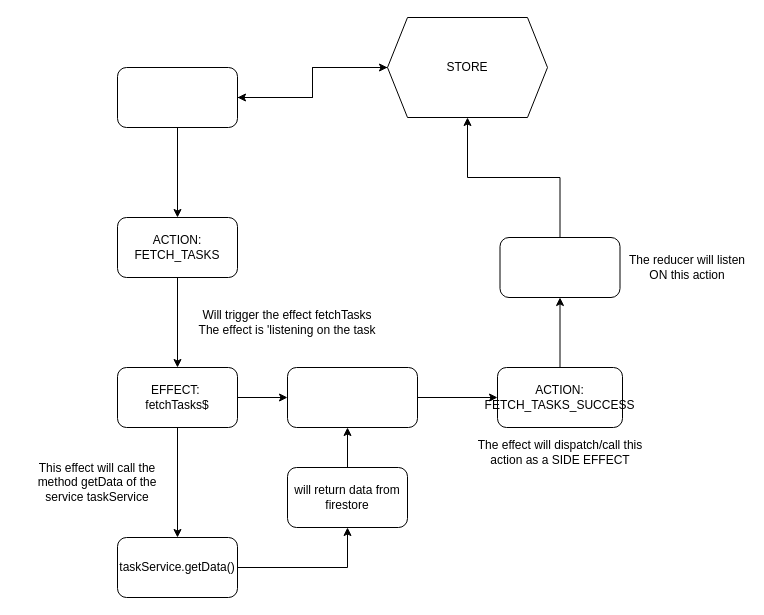
Image size: 764x615. Some labels were removed from this diagram. The shapes that lost their labels are listed below. From the top down, each one's centre as x and y in pixels, then its label:
the point at 177,97: Task List component is DISPATCHING this action
the point at 559,267: REDUCER
the point at 352,397: the effect has the data returned
